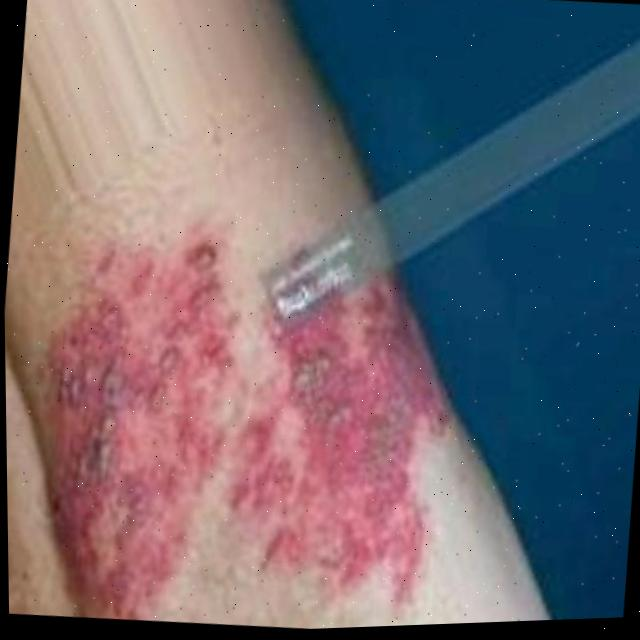Shingles: (12, 228, 462, 628)
